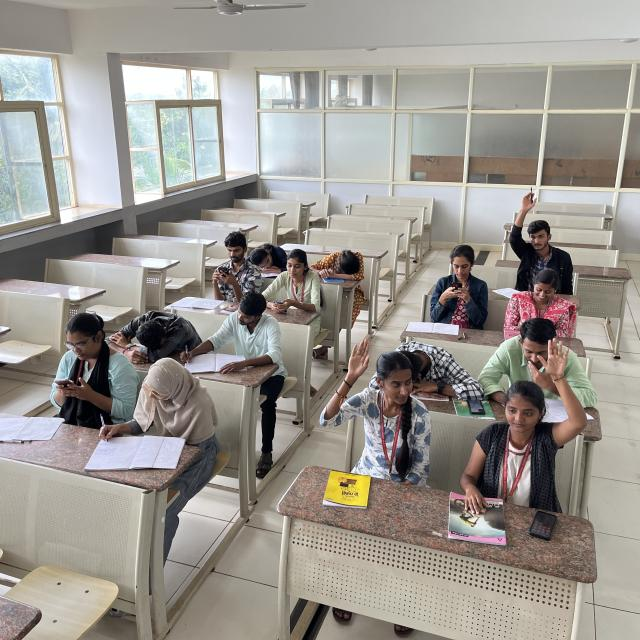Hand Rising: (336, 327, 433, 501), (488, 333, 592, 489), (503, 174, 580, 293)
Sleeping: (375, 303, 476, 398), (107, 285, 196, 365), (300, 218, 368, 299), (249, 234, 297, 292)
Using Phone: (39, 306, 132, 422), (478, 262, 592, 346), (413, 243, 507, 343), (204, 225, 266, 308), (265, 250, 324, 330)
Writing: (98, 352, 208, 477), (164, 282, 274, 382)
